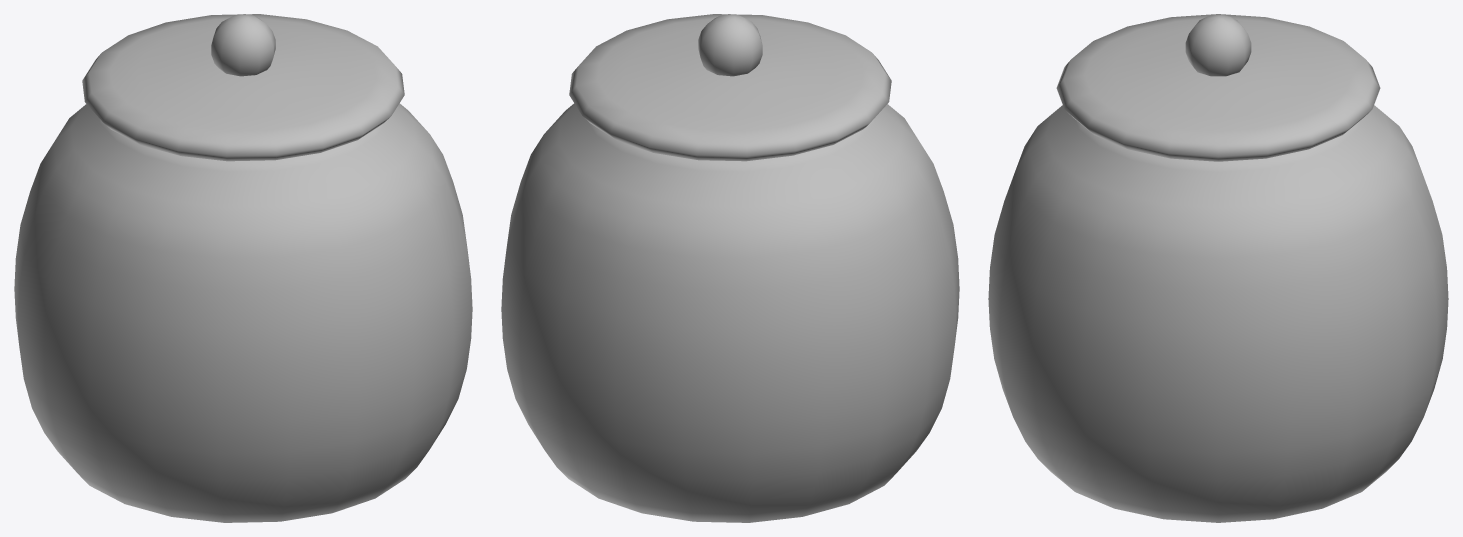
The model's file is Tarro.fbx.
3 renders of one model, left to right at view 1: azimuth 30°, elevation 25°; view 2: azimuth 150°, elevation 25°; view 3: azimuth 270°, elevation 25°, orthographic.
Parts seen in each view (by area): view 1: Tarro; view 2: Tarro; view 3: Tarro.
Part boxes in pixels (box(x1,y1,x2,y2)): Tarro: box(14, 14, 472, 522); Tarro: box(501, 14, 959, 522); Tarro: box(988, 14, 1448, 522).
Bounding box in the file's own units: 58.8 × 61.33 × 58.8.
Materials: 2 (2 with a texture image).
